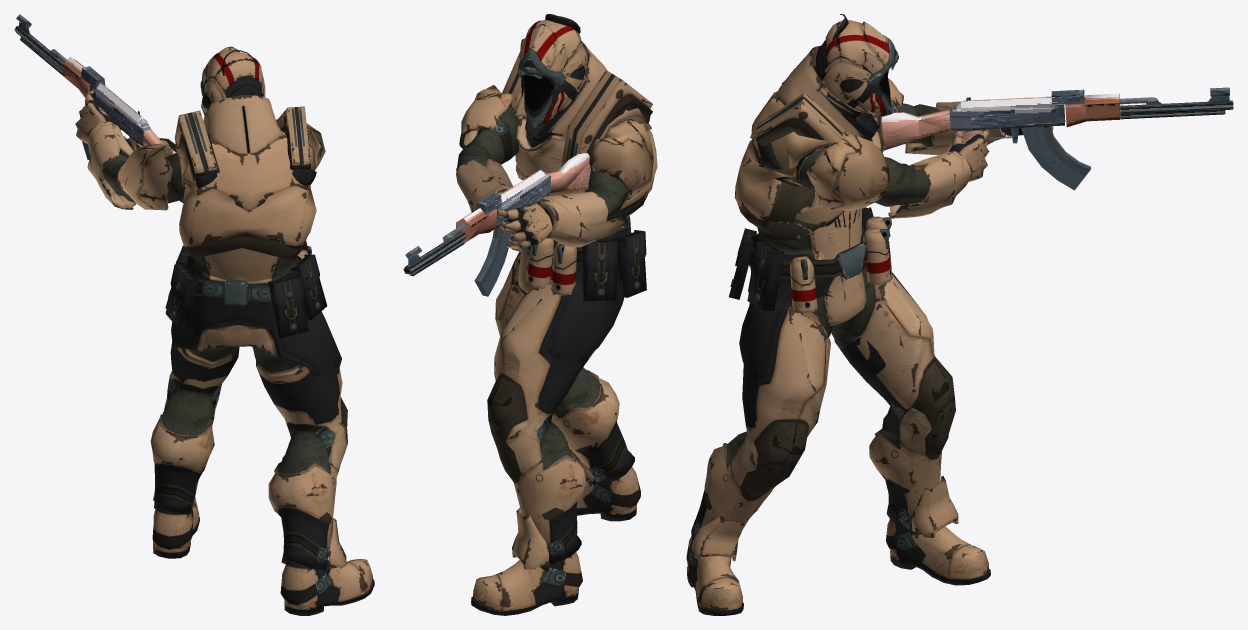
The model's file is sold1.glb.
3 views of the same model, side by side, from view 1: azimuth 30°, elevation 25°; view 2: azimuth 150°, elevation 25°; view 3: azimuth 270°, elevation 25° (orthographic). The views are drawn at different scales.
Parts seen in each view (by area): view 1: vanguard_Mesh, ak47; view 2: vanguard_Mesh, ak47; view 3: vanguard_Mesh, ak47.
Boxes of the visible parts, <box> form: vanguard_Mesh: <box>75,46,374,615</box>; ak47: <box>14,14,176,159</box>; vanguard_Mesh: <box>456,20,657,615</box>; ak47: <box>403,153,590,296</box>; vanguard_Mesh: <box>686,20,1055,615</box>; ak47: <box>881,87,1233,190</box>.
Bounding box in the file's own units: 0.6324 × 1.74 × 1.54.
3 materials, 3 textured.
